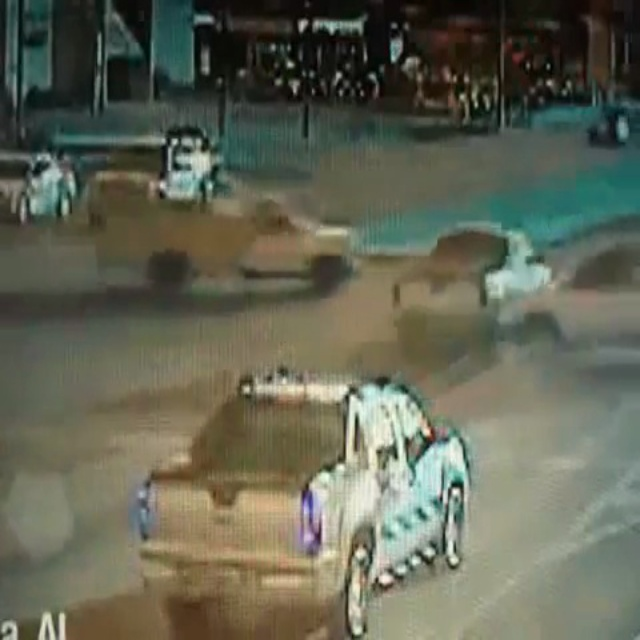acc: (375, 198, 640, 357)
